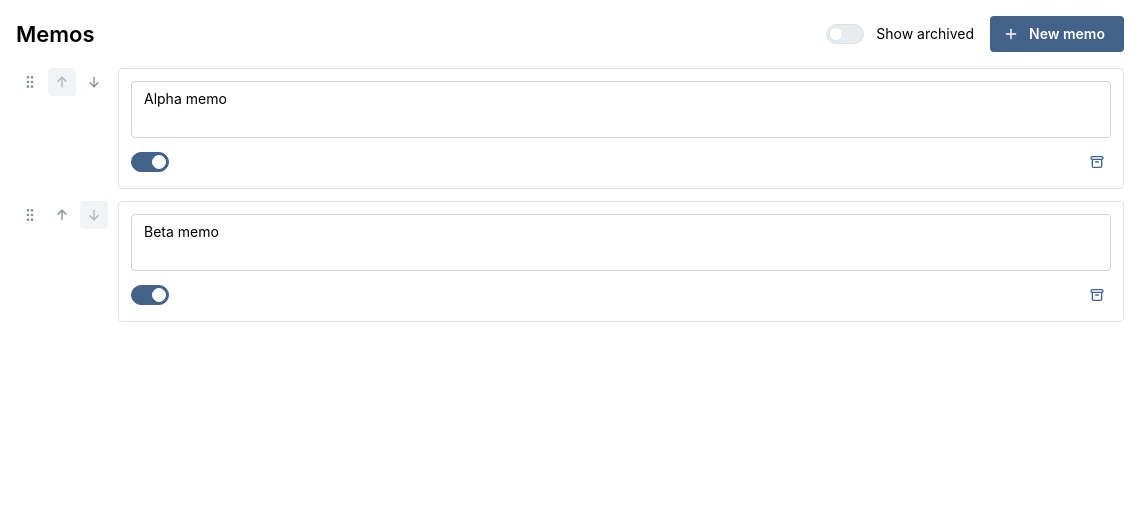
Scenario: editing a memo (DoD-5, DoD-6) › DoD-6 (US-125.AC-2): no save control exists — not idle, not mid-edit, not with a dirty draft
Note: Mid-edit: the field is focused.
Click the text box named "Memo 1 body".
click(621, 110)  # box [131,81,1111,138]
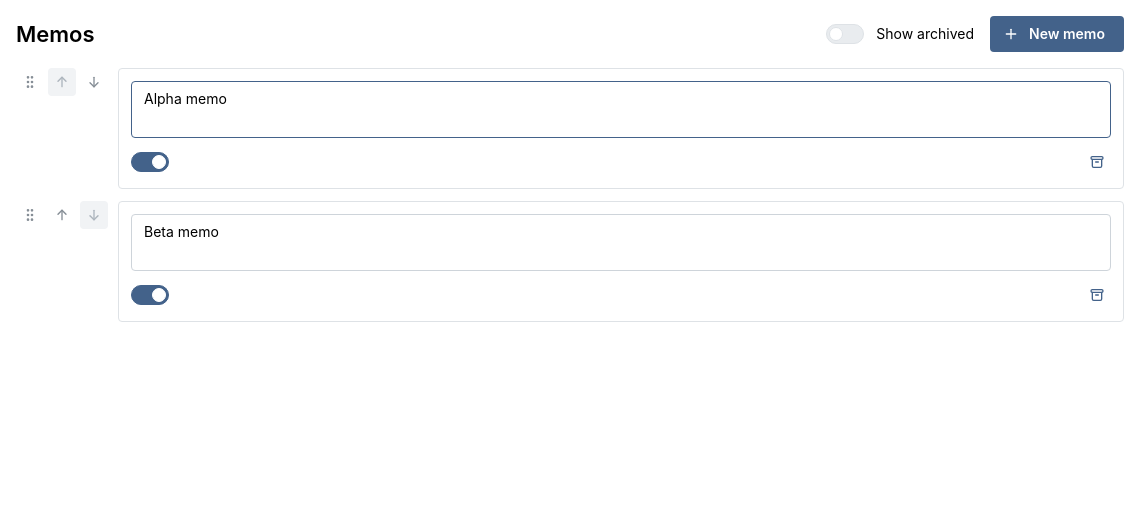
Note: Dirty: an unsaved draft differs from the server's value.
Type " and more" into the text box named "Memo 1 body".
click(621, 110); type(" and more")  # box [131,81,1111,138]
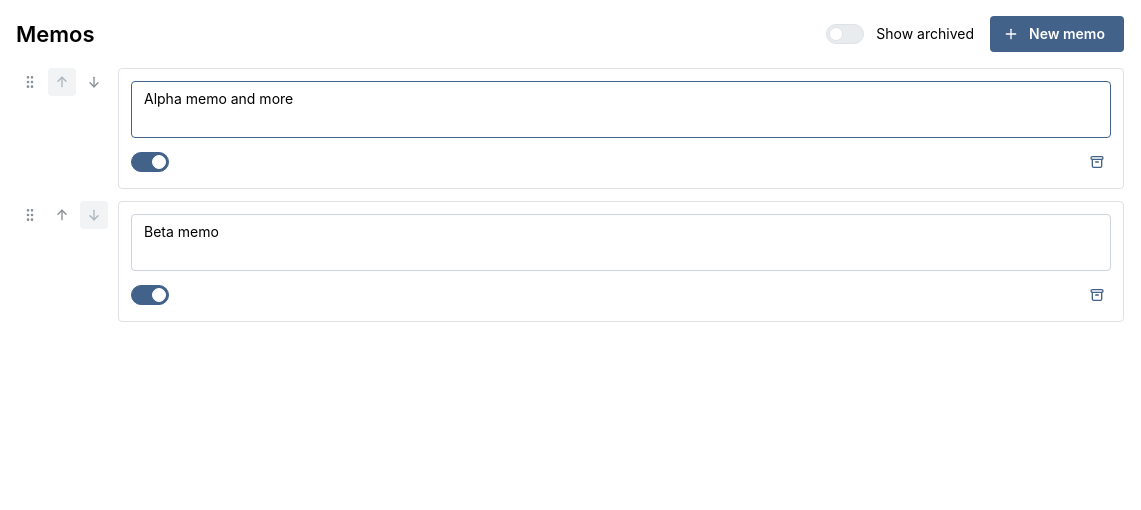
Expected: the text box named "Memo 1 body" holds "Alpha memo and more", [131,81,1111,138]
Note: And with the archived section revealed, where a second row shape is on screen.
Click the 1st switch labelled "Show archived".
click(900, 34)  # box [826,24,974,44]
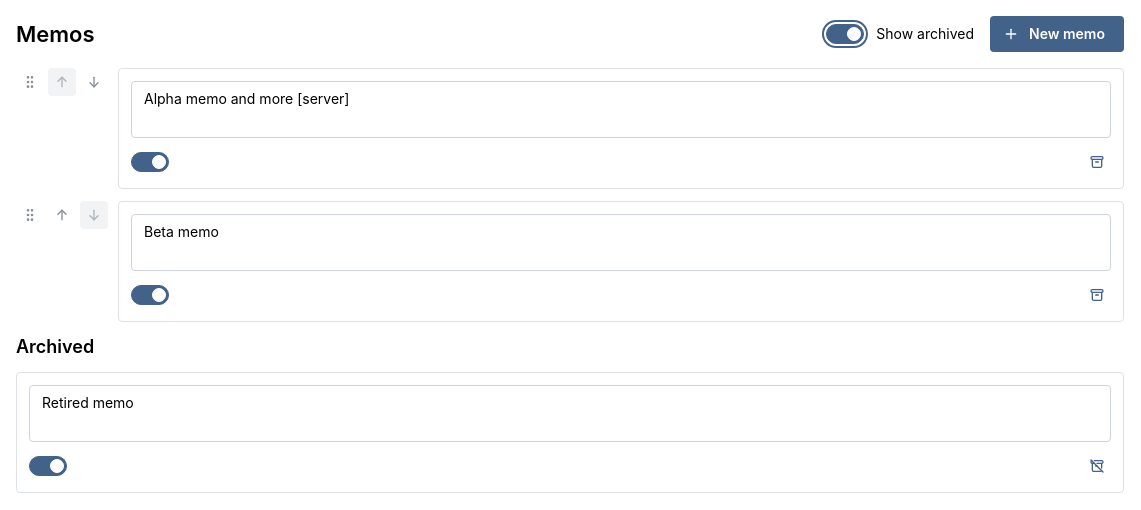
Expected: the 2nd text box showing "Retired memo" is shown, [29,385,1111,442]
